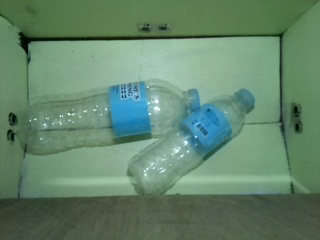bottle: (16, 78, 202, 156), (126, 87, 256, 195)
